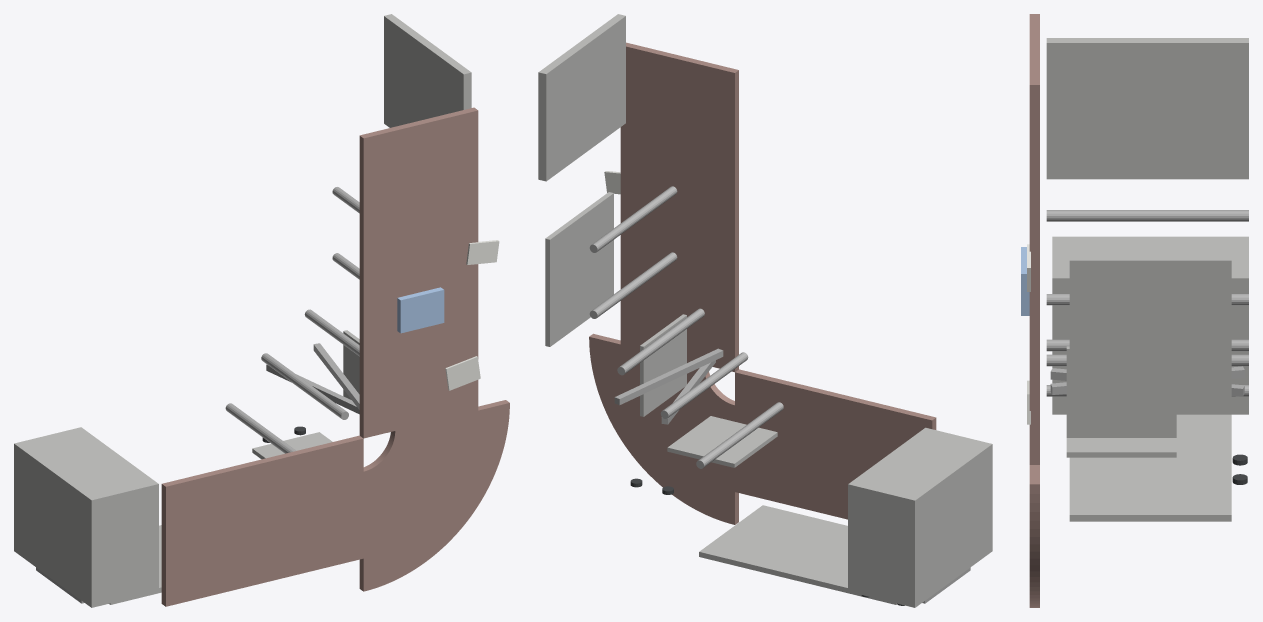
The model's file is 01_l_shape_corner_desk_curved_90deg_v2_swapped_lengths.obj.
3 views of the same model, side by side, from view 1: azimuth 30°, elevation 25°; view 2: azimuth 150°, elevation 25°; view 3: azimuth 270°, elevation 25° (orthographic). The views are drawn at different scales.
Parts seen in each view (by area): view 1: l_shape_corner_desk_short_top, l_shape_corner_desk_long_top, l_shape_corner_desk_left_support_body, l_shape_corner_desk_corner_curve, l_shape_corner_desk_right_end_panel, l_shape_corner_desk_curve_fill_y, l_shape_corner_desk_book_stack, l_shape_corner_desk_leg_0, l_shape_corner_desk_corner_inner_panel_x, l_shape_corner_desk_paper_stack_a, l_shape_corner_desk_leg_4, l_shape_corner_desk_brace_b (+2 smaller); view 2: l_shape_corner_desk_short_top, l_shape_corner_desk_left_support_body, l_shape_corner_desk_long_top, l_shape_corner_desk_corner_curve, l_shape_corner_desk_right_end_panel, l_shape_corner_desk_long_front_panel, l_shape_corner_desk_short_front_panel, l_shape_corner_desk_corner_inner_panel_x, l_shape_corner_desk_corner_inner_panel_y, l_shape_corner_desk_curve_fill_x, l_shape_corner_desk_curve_fill_y, l_shape_corner_desk_brace_b (+5 smaller); view 3: l_shape_corner_desk_right_end_panel, l_shape_corner_desk_short_front_panel, l_shape_corner_desk_long_front_panel, l_shape_corner_desk_left_support_body, l_shape_corner_desk_corner_inner_panel_y, l_shape_corner_desk_short_top, l_shape_corner_desk_leg_3, l_shape_corner_desk_corner_inner_panel_x, l_shape_corner_desk_corner_curve, l_shape_corner_desk_leg_1, l_shape_corner_desk_leg_0, l_shape_corner_desk_leg_2 (+3 smaller).
Boxes of the visible parts, x1=… form: l_shape_corner_desk_short_top: x1=359, y1=107, x2=478, y2=438; l_shape_corner_desk_long_top: x1=161, y1=435, x2=363, y2=606; l_shape_corner_desk_left_support_body: x1=14, y1=427, x2=158, y2=607; l_shape_corner_desk_corner_curve: x1=359, y1=400, x2=509, y2=591; l_shape_corner_desk_right_end_panel: x1=384, y1=14, x2=471, y2=127; l_shape_corner_desk_curve_fill_y: x1=359, y1=369, x2=478, y2=436; l_shape_corner_desk_book_stack: x1=397, y1=287, x2=444, y2=333; l_shape_corner_desk_leg_0: x1=261, y1=353, x2=348, y2=419; l_shape_corner_desk_corner_inner_panel_x: x1=252, y1=432, x2=332, y2=459; l_shape_corner_desk_paper_stack_a: x1=445, y1=356, x2=480, y2=390; l_shape_corner_desk_leg_4: x1=225, y1=403, x2=296, y2=453; l_shape_corner_desk_brace_b: x1=313, y1=343, x2=359, y2=409; l_shape_corner_desk_short_top: x1=620, y1=42, x2=738, y2=372; l_shape_corner_desk_left_support_body: x1=848, y1=427, x2=992, y2=607; l_shape_corner_desk_long_top: x1=735, y1=369, x2=936, y2=519; l_shape_corner_desk_corner_curve: x1=589, y1=333, x2=738, y2=524; l_shape_corner_desk_right_end_panel: x1=538, y1=14, x2=625, y2=181; l_shape_corner_desk_long_front_panel: x1=699, y1=505, x2=896, y2=604; l_shape_corner_desk_short_front_panel: x1=545, y1=192, x2=613, y2=346; l_shape_corner_desk_corner_inner_panel_x: x1=667, y1=416, x2=777, y2=467; l_shape_corner_desk_corner_inner_panel_y: x1=640, y1=314, x2=686, y2=416; l_shape_corner_desk_curve_fill_x: x1=735, y1=369, x2=785, y2=503; l_shape_corner_desk_curve_fill_y: x1=620, y1=296, x2=738, y2=370; l_shape_corner_desk_brace_b: x1=614, y1=348, x2=723, y2=405; l_shape_corner_desk_right_end_panel: x1=1046, y1=38, x2=1248, y2=179; l_shape_corner_desk_short_front_panel: x1=1069, y1=257, x2=1231, y2=396; l_shape_corner_desk_long_front_panel: x1=1069, y1=414, x2=1231, y2=521; l_shape_corner_desk_left_support_body: x1=1052, y1=236, x2=1248, y2=414; l_shape_corner_desk_corner_inner_panel_y: x1=1066, y1=346, x2=1176, y2=437; l_shape_corner_desk_short_top: x1=1029, y1=14, x2=1039, y2=464; l_shape_corner_desk_leg_3: x1=1046, y1=210, x2=1248, y2=221; l_shape_corner_desk_corner_inner_panel_x: x1=1066, y1=438, x2=1176, y2=457; l_shape_corner_desk_corner_curve: x1=1029, y1=465, x2=1039, y2=607; l_shape_corner_desk_leg_1: x1=1046, y1=339, x2=1248, y2=351; l_shape_corner_desk_leg_0: x1=1046, y1=354, x2=1248, y2=366; l_shape_corner_desk_leg_2: x1=1046, y1=294, x2=1248, y2=305.
Size of the model in its own units: 2.07 by 2.35 by 0.788.
